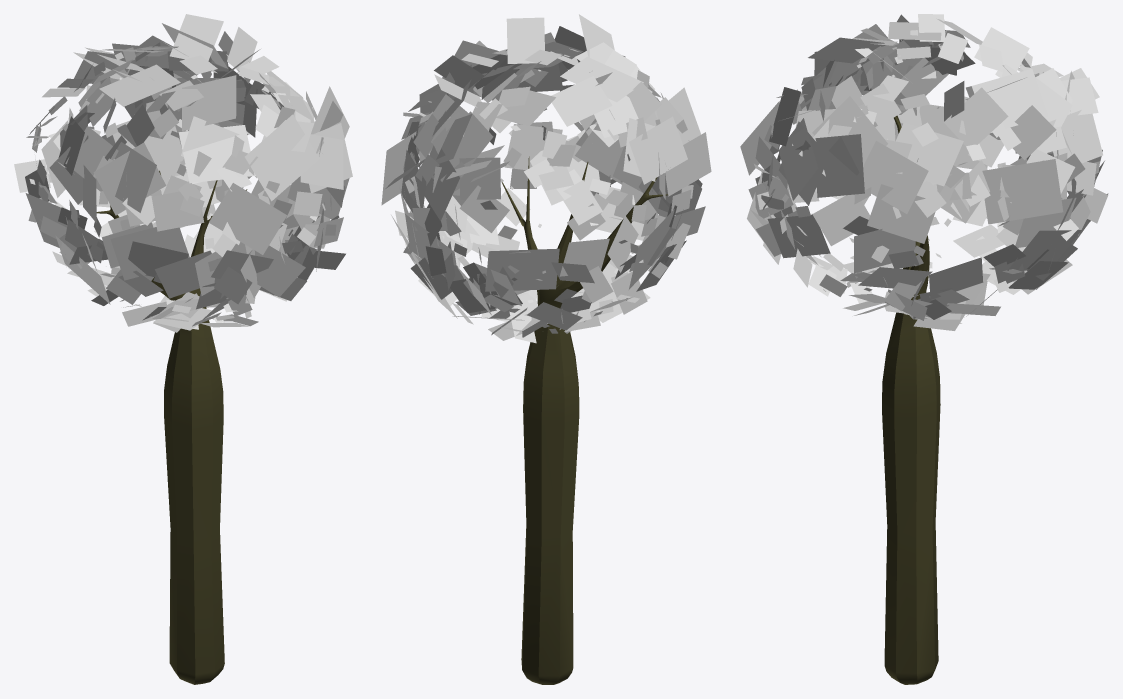
Rendered from LaurelTree.fbx.
3 renders of one model, left to right at view 1: azimuth 30°, elevation 25°; view 2: azimuth 150°, elevation 25°; view 3: azimuth 270°, elevation 25°, orthographic. The views are drawn at different scales.
Parts seen in each view (by area): view 1: LaurelTree; view 2: LaurelTree; view 3: LaurelTree.
Part boxes in pixels (bbox=[...]): LaurelTree: bbox=[14, 14, 352, 684]; LaurelTree: bbox=[381, 14, 711, 684]; LaurelTree: bbox=[740, 14, 1108, 684].
Size of the model in its own units: 38.14 by 85.02 by 43.93.
